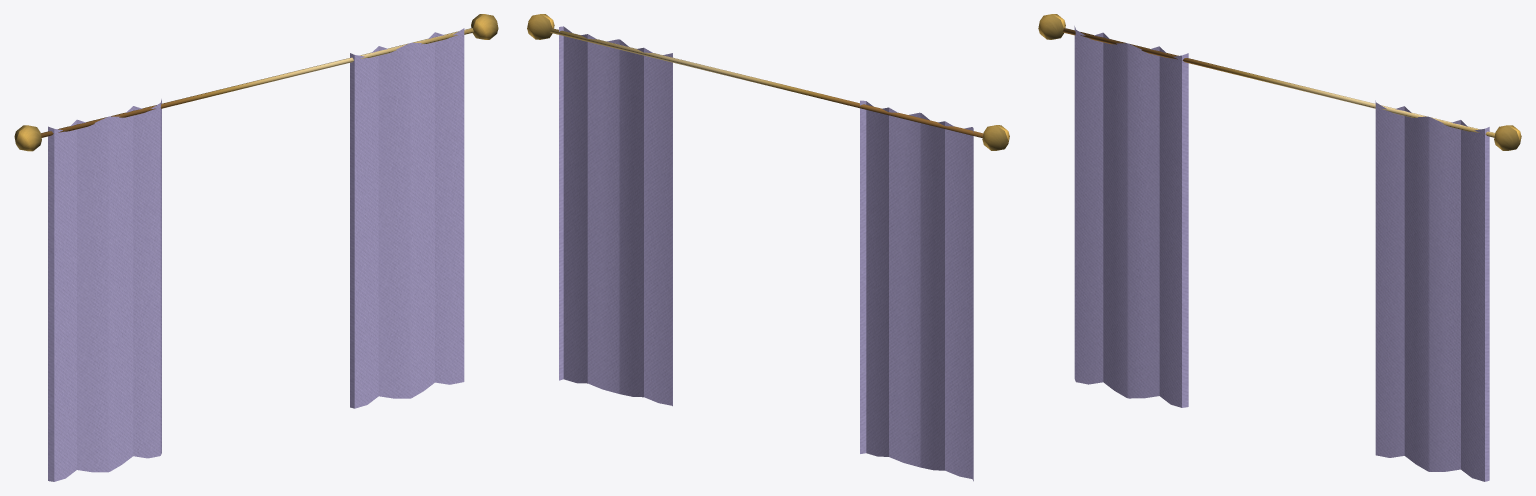
Rendered from Straight_Curtains_14.FBX.
3 renders of one model, left to right at view 1: azimuth 30°, elevation 25°; view 2: azimuth 150°, elevation 25°; view 3: azimuth 330°, elevation 25°, orthographic.
Visible parts, largest first — view 1: Straight_Curtain; view 2: Straight_Curtain; view 3: Straight_Curtain.
Part boxes in pixels (left/top/right/bottom): Straight_Curtain: left=14, top=14, right=498, bottom=481; Straight_Curtain: left=527, top=14, right=1009, bottom=481; Straight_Curtain: left=1038, top=14, right=1521, bottom=481.
Size of the model in its own units: 582 by 421 by 29.96.
